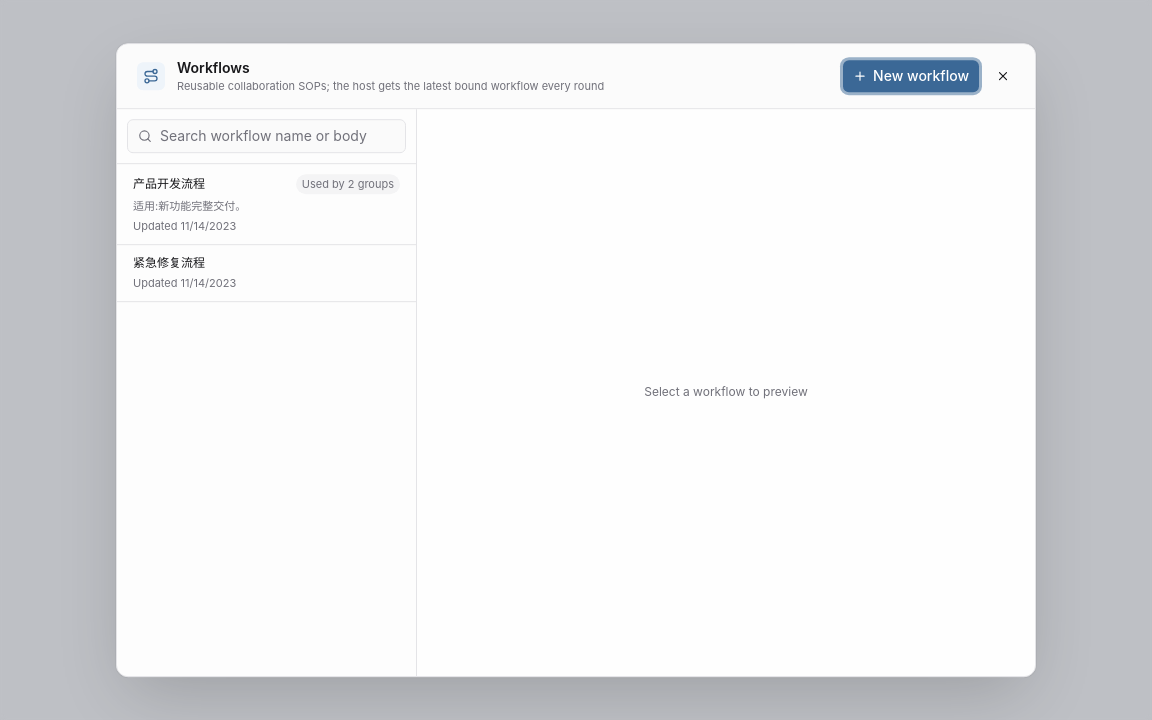
Test case: WorkflowManagerDialog · 内联删除 › 删除后回预览空态
Expected: the text "产品开发流程" is shown, [133,176,205,191]
Click the button with test id "workflow-row-1" at (169, 184), box [117,164,416,245]
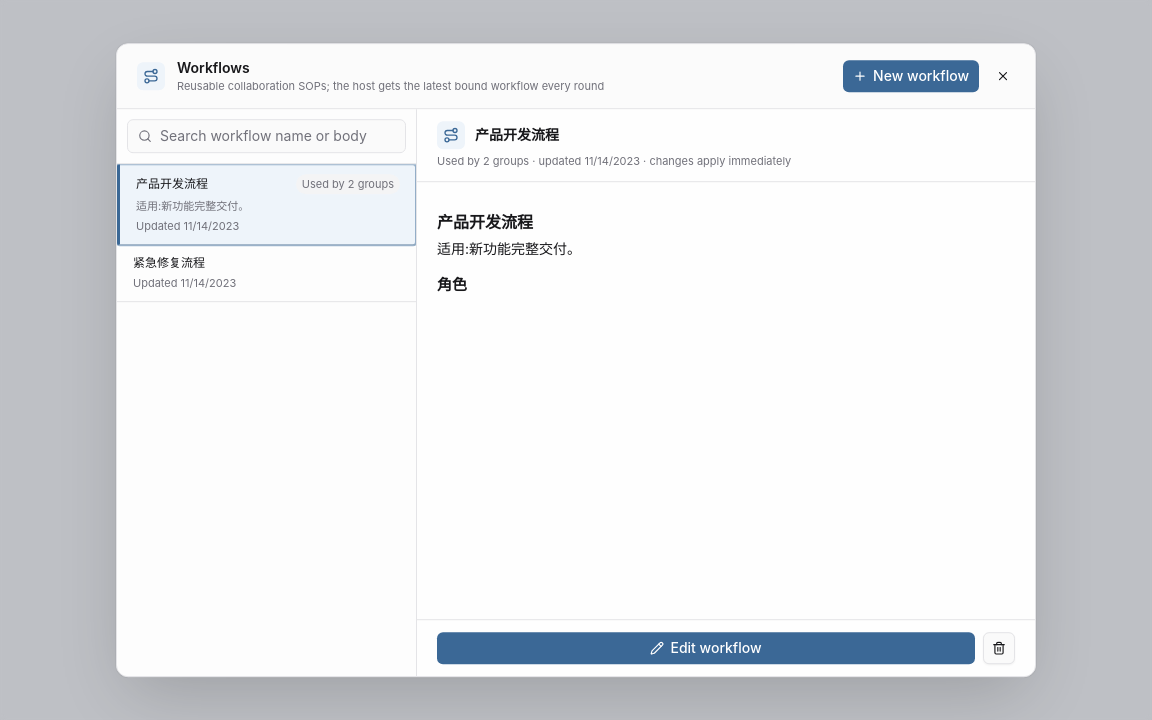
Click the button with test id "workflow-delete-button" at (999, 648), box [983,632,1015,664]
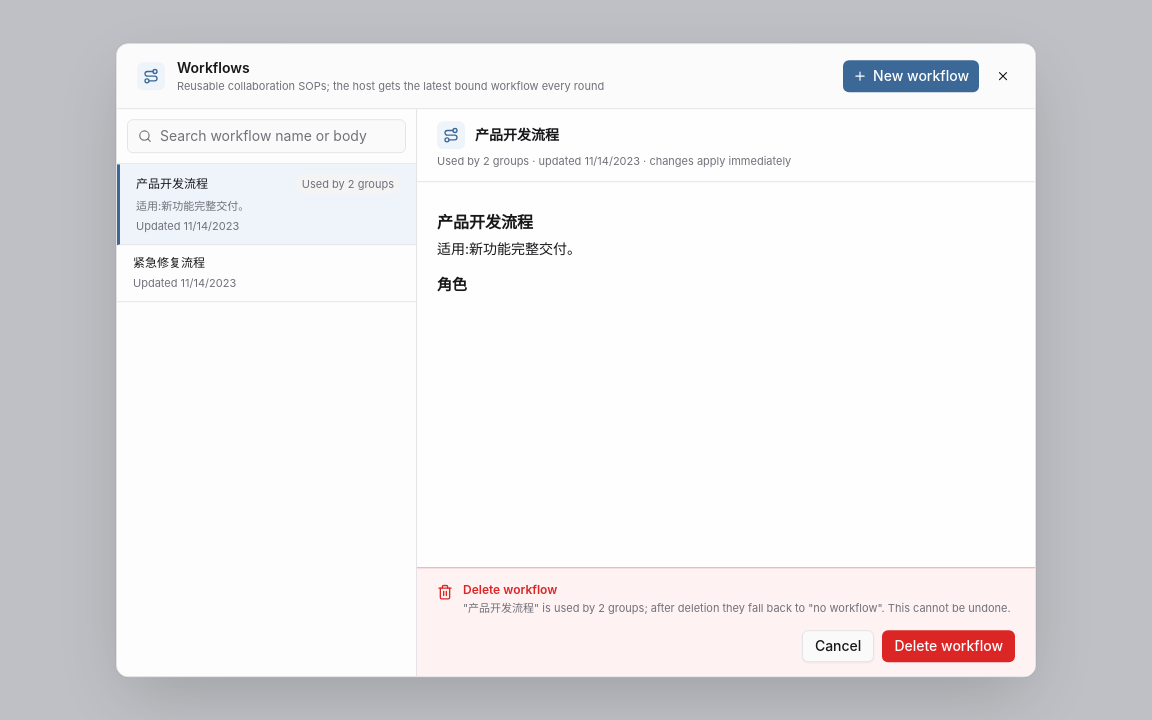
Click the button with test id "workflow-delete-confirm-button" at (949, 646), box [882,630,1015,662]
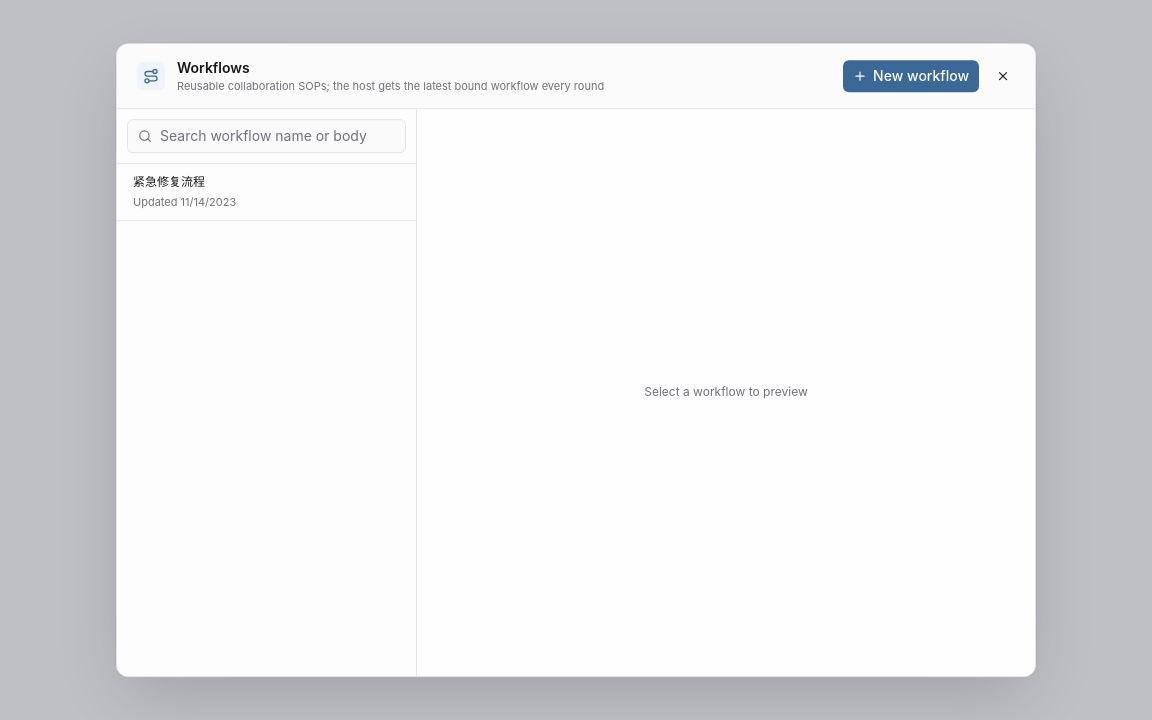
Result: the text "Select a workflow to preview" is shown at [644,384,808,400]
